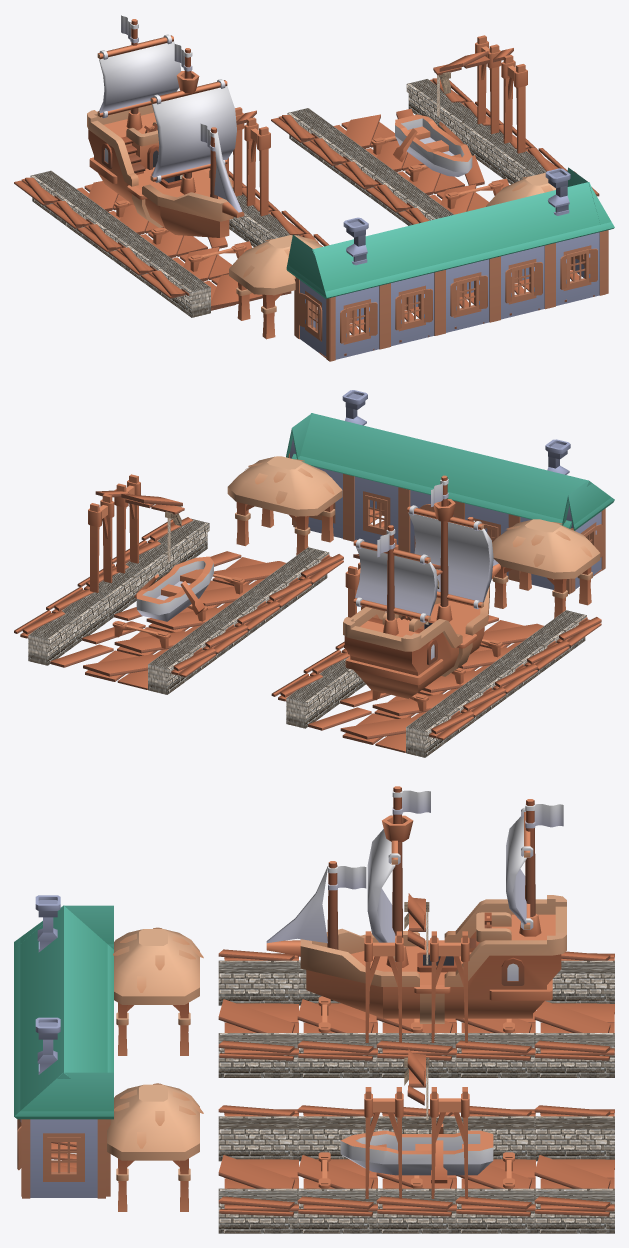
The model's file is london_bld_arsenal.glb.
3 renders of one model, top to bottom at view 1: azimuth 30°, elevation 25°; view 2: azimuth 150°, elevation 25°; view 3: azimuth 270°, elevation 25°, orthographic. The views are drawn at different scales.
Parts seen in each view (by area): view 1: wall-window-shutters (×6), platform-planks (×20), dock-side (×15), roof-gable (×5), ship-medium, wood-support (×4), sail-a, structure-roof (×2), sail-b, boat-row-large, roof-gable-end (×2); view 2: platform-planks (×23), dock-side (×17), roof-gable (×5), structure-roof (×2), ship-medium, wall-window-shutters (×5), sail-a, sail-b, wood-support (×3), boat-row-large, roof-gable-end (×2), wall-door; view 3: dock-side (×17), platform-planks (×27), ship-medium, structure-roof (×2), roof-gable (×5), wood-support (×4), wall-window-shutters, roof-gable-end (×2), boat-row-large, sail-a, sail-b, flag-a (+2 smaller).
Boxes of the visible parts, x1,y1,x2,y2 form: wall-window-shutters (×6): (295, 231, 605, 361); platform-planks (×20): (14, 48, 513, 310); dock-side (×15): (30, 79, 546, 317); roof-gable (×5): (309, 182, 601, 295); ship-medium: (87, 19, 244, 237); wood-support (×4): (225, 35, 527, 216); sail-a: (150, 79, 236, 182); structure-roof (×2): (229, 172, 555, 339); sail-b: (97, 34, 180, 118); boat-row-large: (395, 114, 472, 176); roof-gable-end (×2): (286, 167, 614, 298); platform-planks (×23): (14, 490, 601, 752); dock-side (×17): (28, 518, 586, 757); roof-gable (×5): (292, 413, 591, 528); structure-roof (×2): (227, 456, 600, 618); ship-medium: (343, 475, 500, 698); wall-window-shutters (×5): (293, 466, 605, 594); sail-a: (407, 505, 493, 609); sail-b: (353, 538, 437, 622); wood-support (×3): (88, 474, 365, 654); boat-row-large: (136, 556, 213, 621); roof-gable-end (×2): (286, 413, 614, 530); wall-door: (403, 488, 458, 553); dock-side (×17): (218, 960, 614, 1233); platform-planks (×27): (218, 893, 614, 1216); ship-medium: (266, 786, 566, 1023); structure-roof (×2): (107, 927, 203, 1211); roof-gable (×5): (14, 905, 113, 1108); wood-support (×4): (364, 931, 469, 1198); wall-window-shutters: (22, 1119, 105, 1198); roof-gable-end (×2): (14, 905, 113, 1119); boat-row-large: (340, 1130, 493, 1175); sail-a: (367, 814, 400, 961); sail-b: (506, 807, 533, 929); flag-a: (328, 865, 366, 890).
Size of the model in its own units: 23.5 by 10.38 by 22.82.
Materials: 15 (15 with a texture image).
